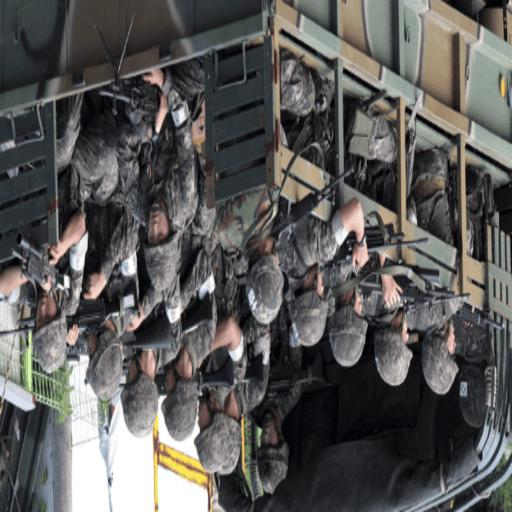korea army: (4, 60, 236, 458), (207, 200, 495, 508)
